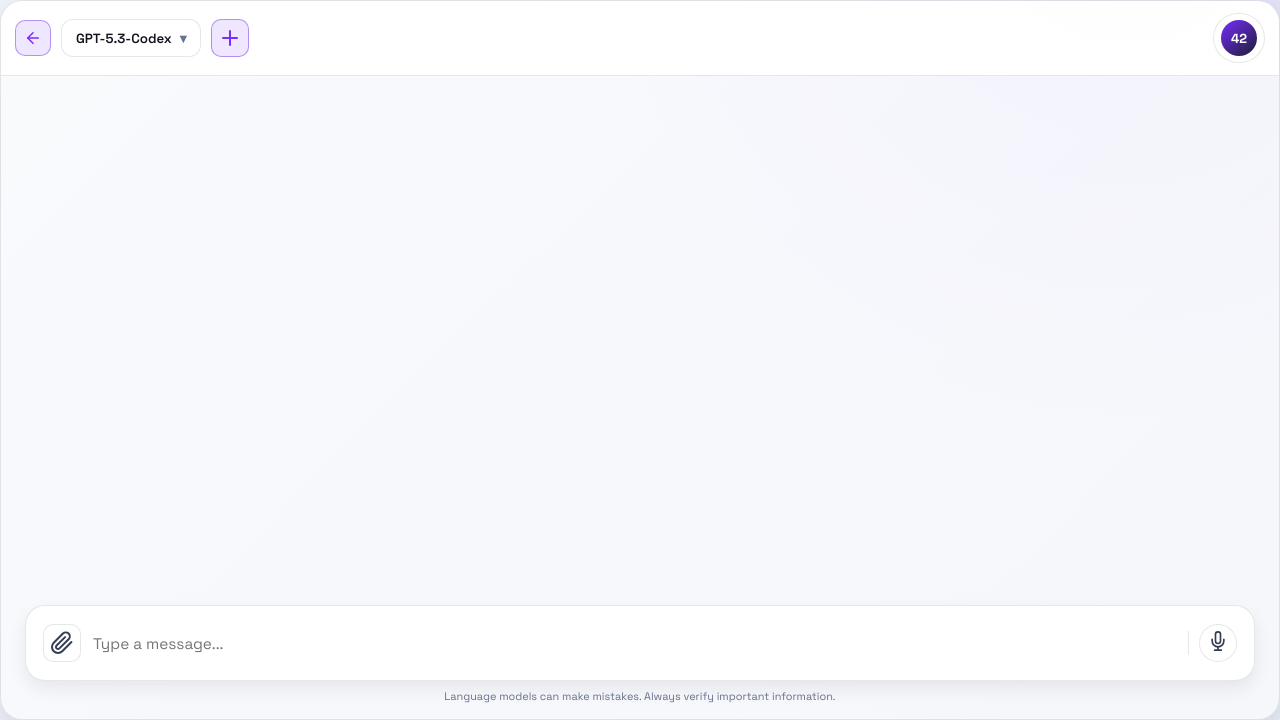
Scenario: ChatPanel › shows unsupported message when speech api is unavailable
Step 1. Click the button named "Record audio" → (1218, 643), box [1199, 624, 1237, 662]
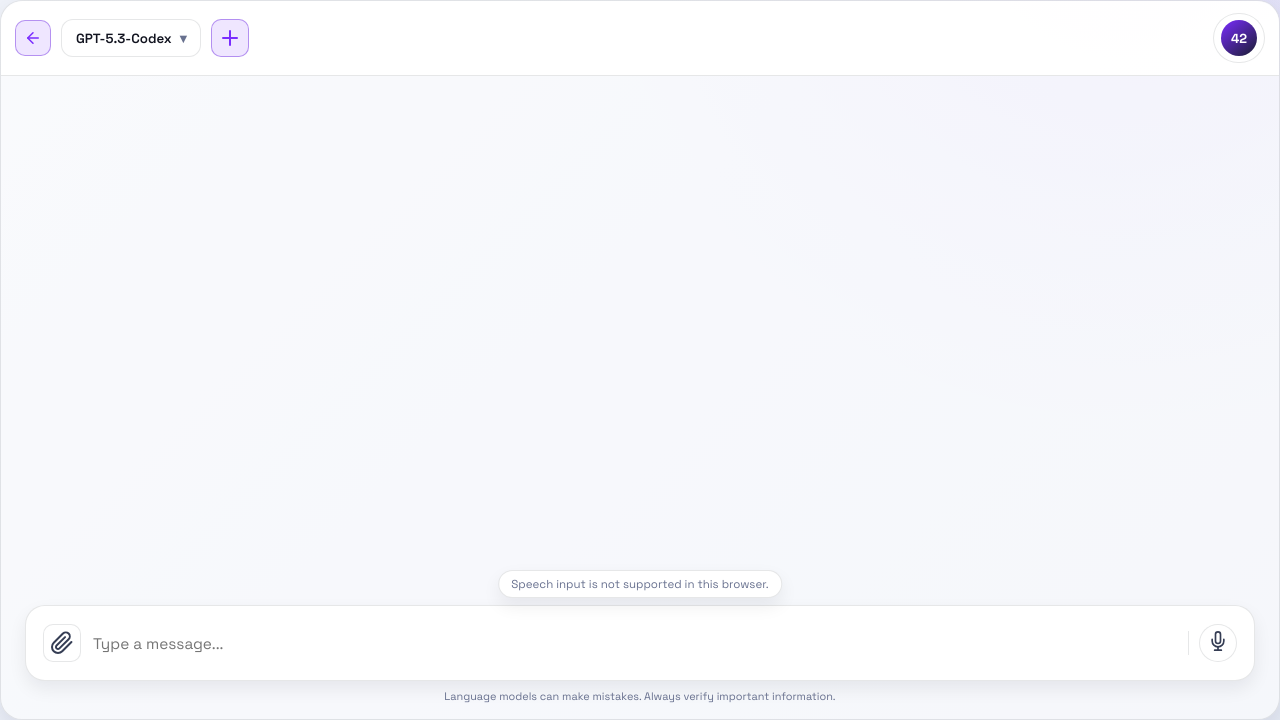
expect the text "Speech input is not supported in this browser." is shown: met, box [498, 570, 782, 598]
